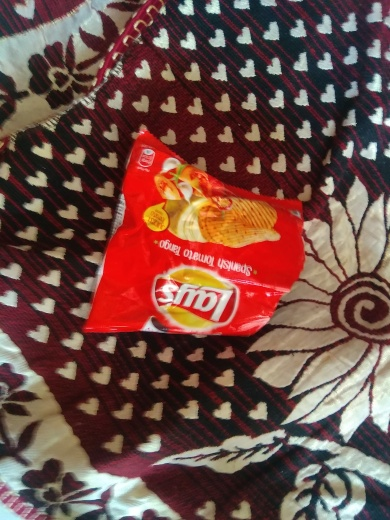lays: (88, 127, 317, 361)
